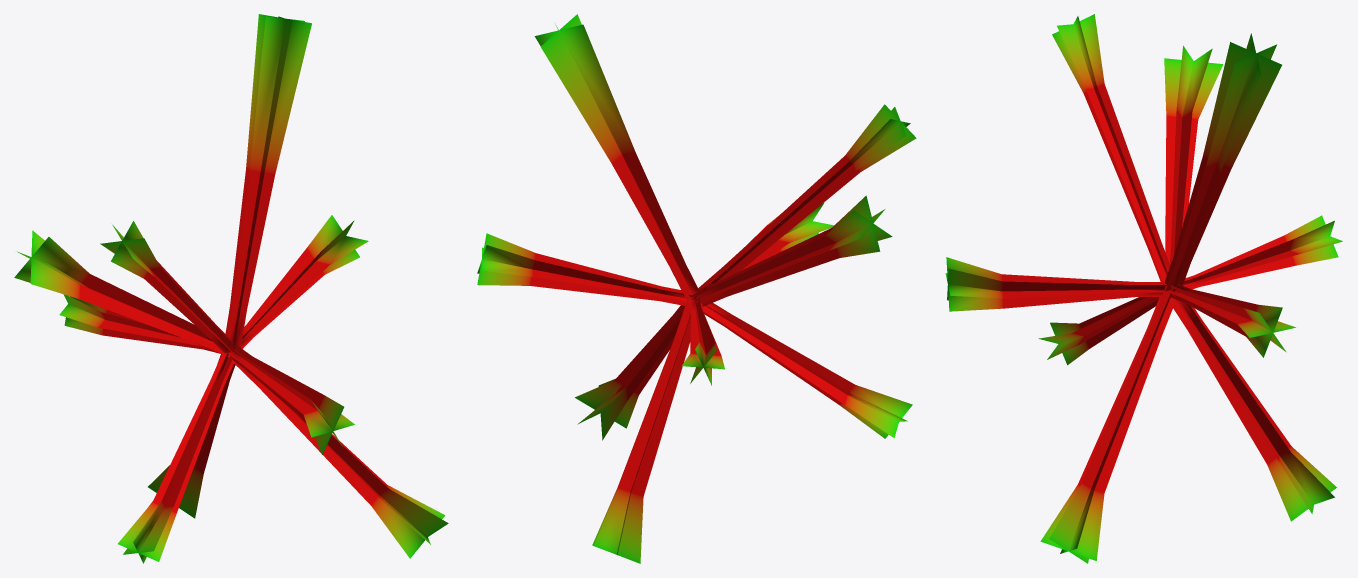
The model's file is SM_ShineFX_01.FBX.
3 renders of one model, left to right at view 1: azimuth 30°, elevation 25°; view 2: azimuth 150°, elevation 25°; view 3: azimuth 270°, elevation 25°, orthographic. The views are drawn at different scales.
Parts seen in each view (by area): view 1: SM_ShineFX_01; view 2: SM_ShineFX_01; view 3: SM_ShineFX_01.
Part boxes in pixels (x1,y1,x2,y2): SM_ShineFX_01: [14, 14, 448, 563]; SM_ShineFX_01: [477, 14, 916, 563]; SM_ShineFX_01: [945, 14, 1342, 563].
Size of the model in its own units: 1036 by 928 by 1330.
